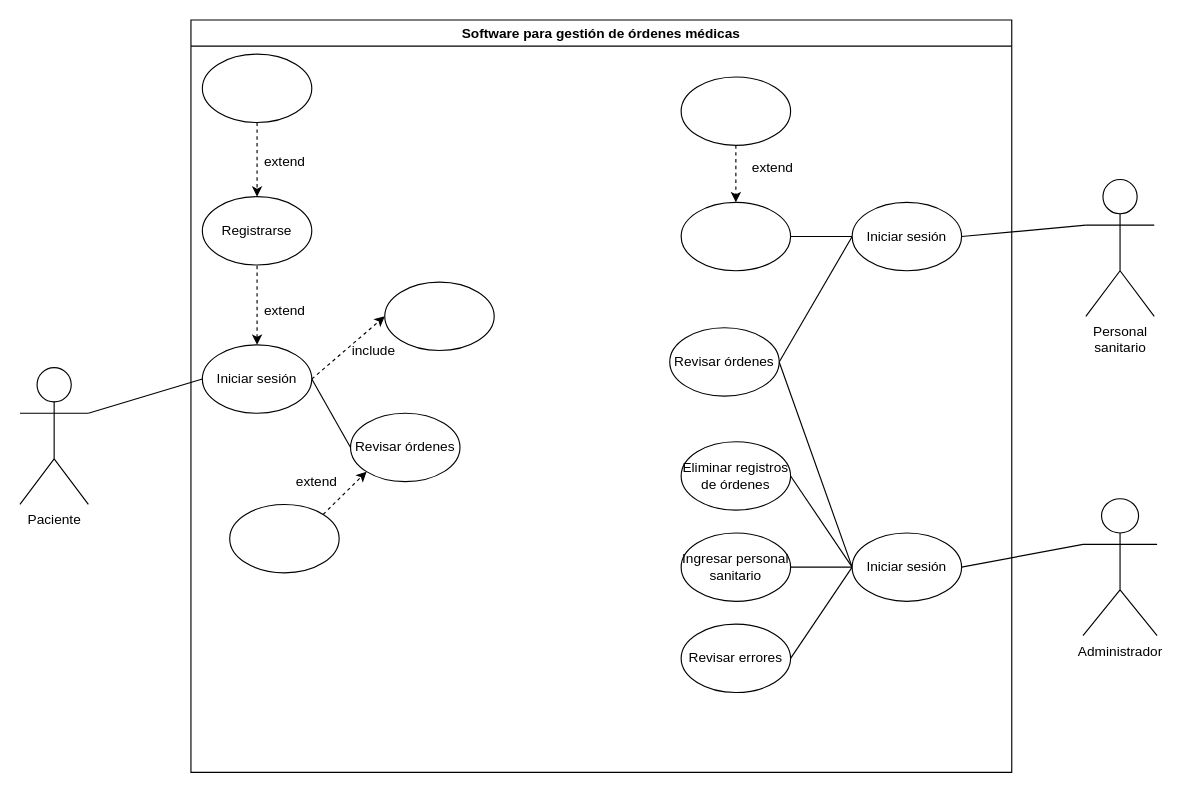
Image size: 1182x792. Some labels were removed from this diagram. Each missing label, with the box of its shape:
Adjuntar documentos: (680, 76, 791, 145)
Correo de confirmación: (201, 53, 312, 123)
Ingresar orden: (680, 201, 791, 271)
Verificación de datos: (384, 281, 494, 351)
Visualizar documentos: (229, 503, 339, 573)
